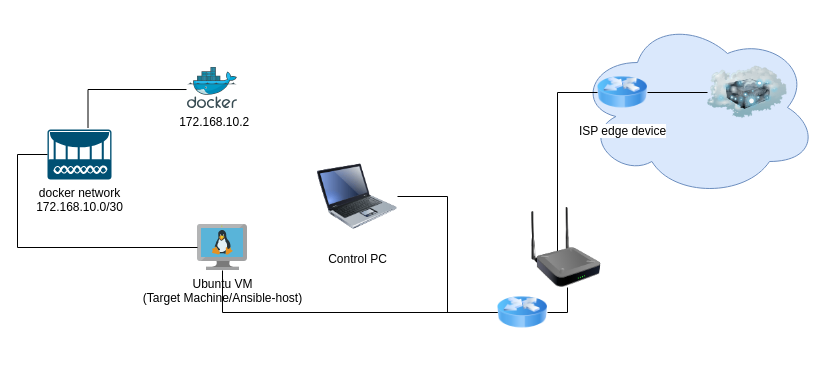
The diagram is 835 pixels wide and 376 high, and some of its shapes have lost their labels. The shapes that lost their labels are listed below. From the top down, each one's centre as x and y in pixels, then its label:
At point 747,92: "GIT Repository".
At point 522,312: "WLAN network's endpoint".
